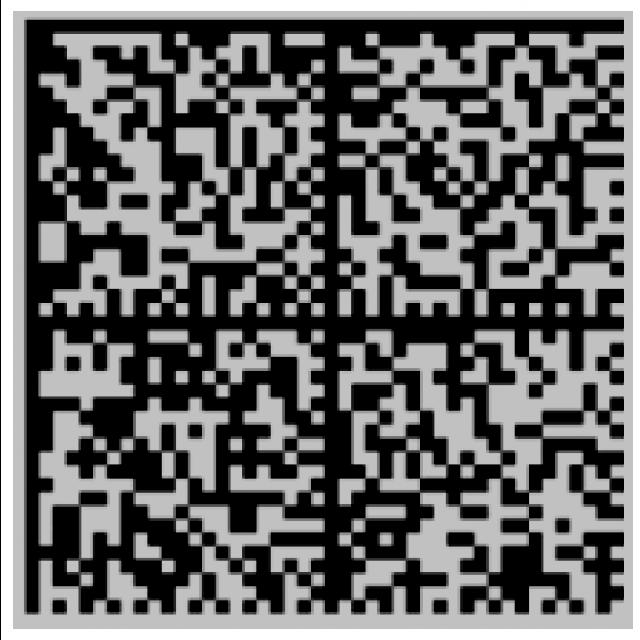DataMatrix: (11, 11, 632, 629)
